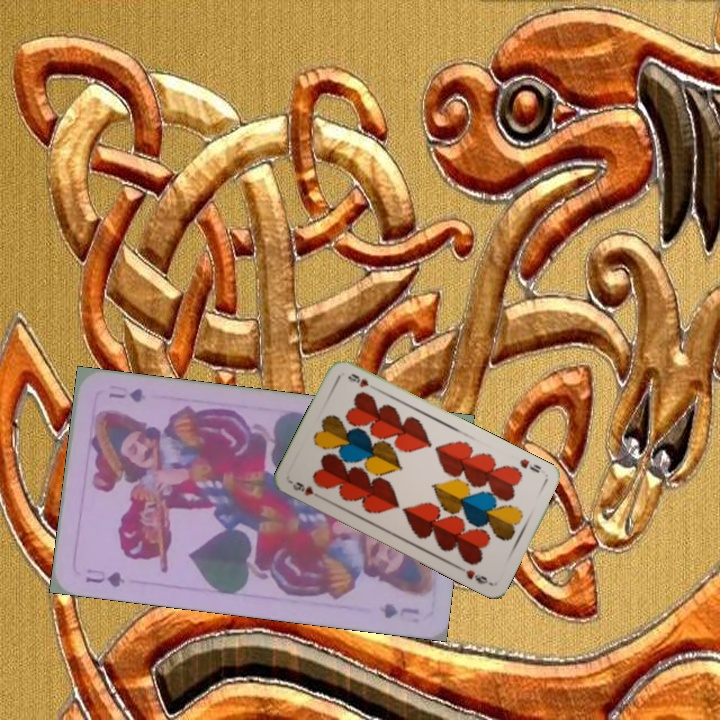GU: (81, 564, 127, 590)
H9: (289, 477, 325, 501), (516, 454, 544, 476)
